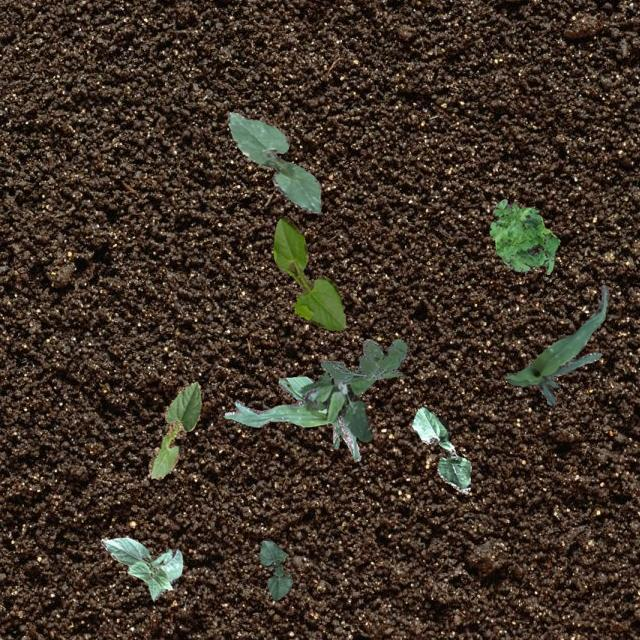crop: (503, 284, 608, 404), (222, 376, 360, 460), (227, 110, 321, 212), (272, 216, 344, 330), (410, 404, 470, 492), (100, 536, 182, 600), (147, 381, 200, 478), (258, 540, 292, 600)
weed: (488, 198, 558, 274), (297, 372, 373, 441), (319, 338, 406, 380)
